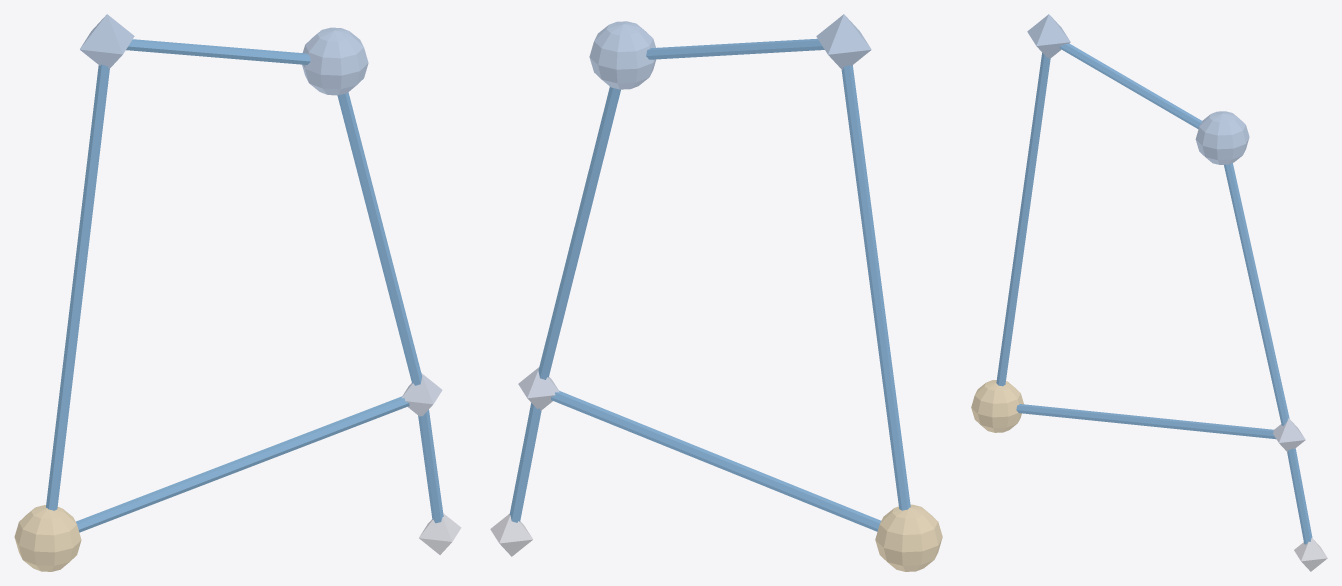
Rendered from constellation-crv.glb.
3 renders of one model, left to right at view 1: azimuth 30°, elevation 25°; view 2: azimuth 150°, elevation 25°; view 3: azimuth 330°, elevation 25°, orthographic. The views are drawn at different scales.
Bounding box in the file's own units: 0.7009 × 0.9371 × 0.0999.
